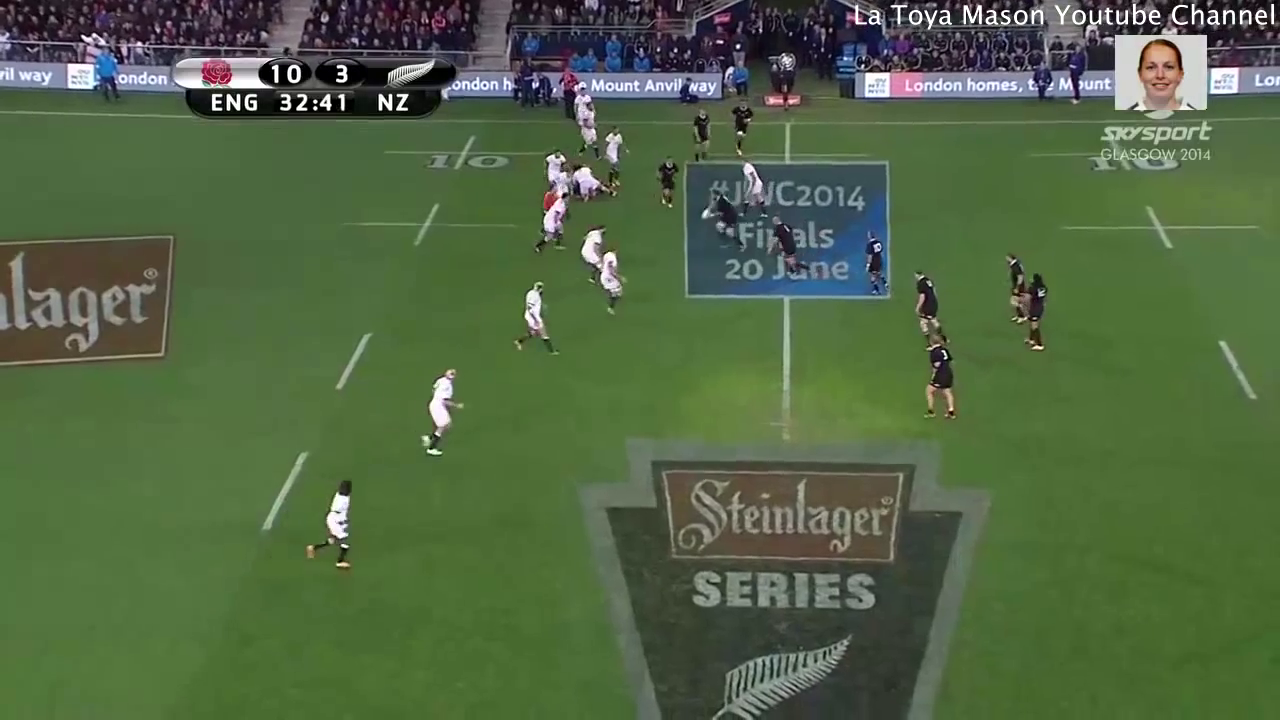10_metre: (1057, 204, 1265, 261), (338, 200, 519, 253), (385, 131, 540, 181), (1018, 143, 1209, 176)
player: (305, 478, 356, 579), (417, 364, 465, 460), (916, 332, 962, 425), (511, 280, 562, 356), (761, 216, 805, 281), (855, 227, 892, 298), (1021, 270, 1049, 356), (590, 249, 627, 314), (907, 271, 946, 332), (737, 158, 773, 217), (533, 191, 565, 255), (705, 188, 740, 244), (1000, 251, 1025, 324), (652, 149, 681, 207), (575, 104, 604, 160), (600, 126, 627, 184), (687, 106, 713, 164), (728, 95, 751, 157), (578, 223, 601, 281), (541, 147, 562, 174), (568, 88, 593, 108)
ruck: (540, 159, 616, 202)
